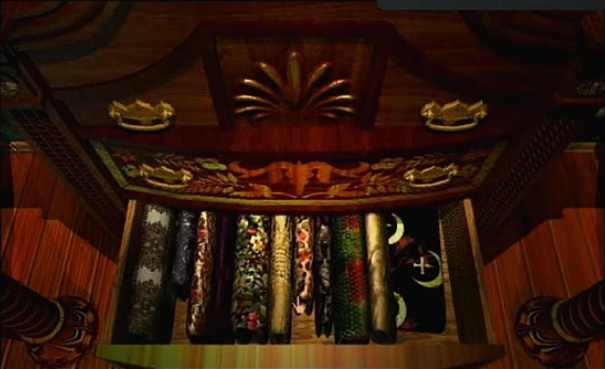Pointer: (289, 294, 311, 315)
